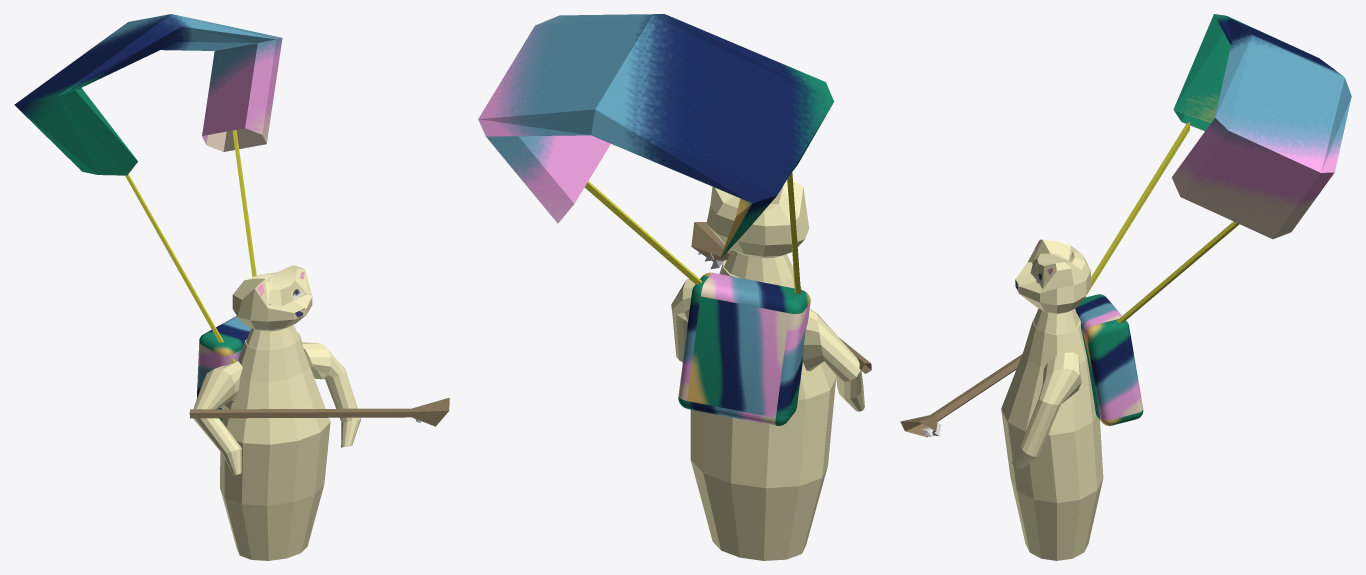
Rendered from dov.fbx.
3 renders of one model, left to right at view 1: azimuth 30°, elevation 25°; view 2: azimuth 150°, elevation 25°; view 3: azimuth 270°, elevation 25°, orthographic. The views are drawn at different scales.
Visible parts, largest first — view 1: BalloonNew, body, head, left_hand_003, FireGun, left_hand_001, backpack, string2, string; view 2: BalloonNew, body, backpack, head, left_hand_003, FireGun, string, left_hand_001, string2; view 3: BalloonNew, body, backpack, head, left_hand_001, FireGun, string2, string.
Part boxes in pixels (box(x1,y1,x2,y2)): BalloonNew: box(14, 14, 282, 175); body: box(220, 333, 330, 560); head: box(232, 265, 312, 349); left_hand_003: box(193, 361, 242, 475); FireGun: box(189, 397, 449, 426); left_hand_001: box(302, 342, 360, 447); backpack: box(197, 316, 251, 420); string2: box(125, 174, 234, 363); string: box(232, 130, 256, 277); BalloonNew: box(478, 14, 834, 259); body: box(690, 260, 835, 560); backpack: box(678, 272, 810, 425); head: box(706, 179, 809, 281); left_hand_003: box(802, 309, 864, 411); FireGun: box(691, 222, 871, 373); string: box(584, 181, 701, 284); left_hand_001: box(671, 279, 695, 362); string2: box(787, 172, 800, 293); BalloonNew: box(1172, 14, 1351, 239); body: box(1001, 314, 1103, 560); backpack: box(1075, 294, 1143, 425); head: box(1015, 239, 1090, 334); left_hand_001: box(1012, 352, 1081, 468); FireGun: box(900, 354, 1022, 437); string2: box(1084, 122, 1190, 298); string: box(1117, 221, 1239, 323).
Bounding box in the file's own units: 405 × 729 × 592.
